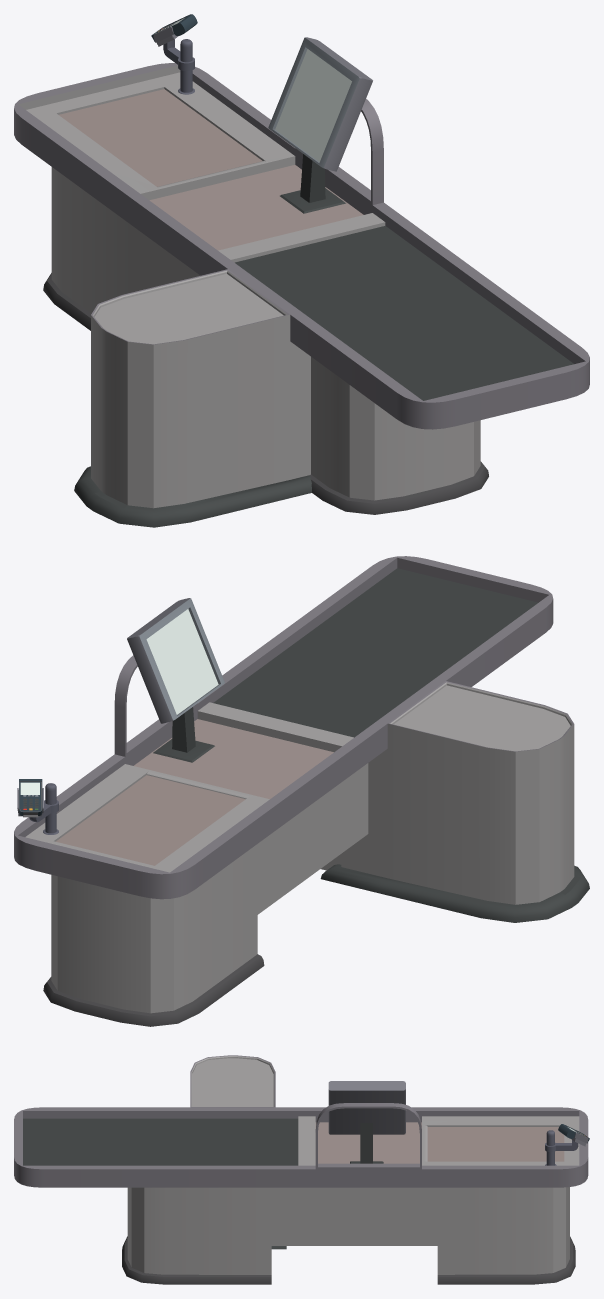
File: P_caisse_V2.fbx
3 views of the same model, one above another, from view 1: azimuth 30°, elevation 25°; view 2: azimuth 150°, elevation 25°; view 3: azimuth 270°, elevation 25° (orthographic). The views are drawn at different scales.
Visible parts, largest first — view 1: Box002; view 2: Box002; view 3: Box002.
Part boxes in pixels (<box>): Box002: <box>14,14,589,527</box>; Box002: <box>14,556,589,1026</box>; Box002: <box>14,1055,589,1284</box>.
Size of the model in its own units: 57.25 by 45.92 by 117.
